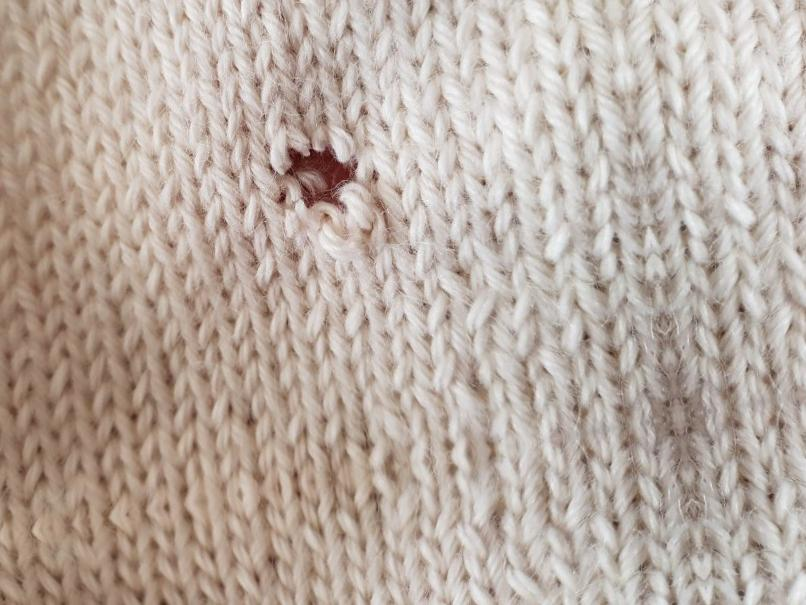hole: (269, 125, 369, 233)
